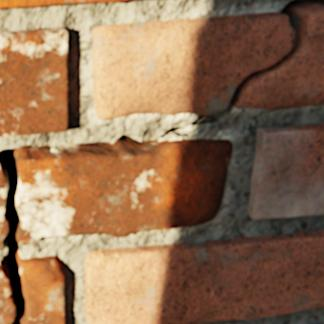brick: (84, 231, 323, 323), (0, 28, 68, 136), (247, 123, 323, 219), (0, 0, 136, 8)
broken_brick: (16, 139, 230, 244), (92, 12, 293, 120), (235, 6, 323, 109), (18, 255, 65, 323), (0, 264, 15, 323), (0, 162, 8, 249)
crack: (0, 0, 323, 323)
